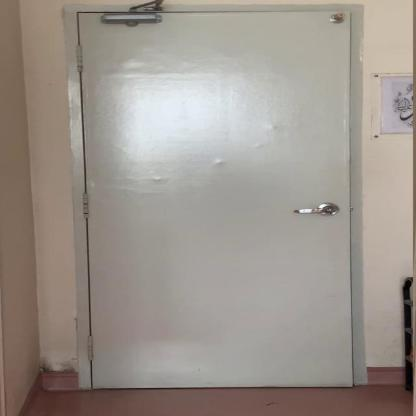door: (59, 0, 373, 401)
